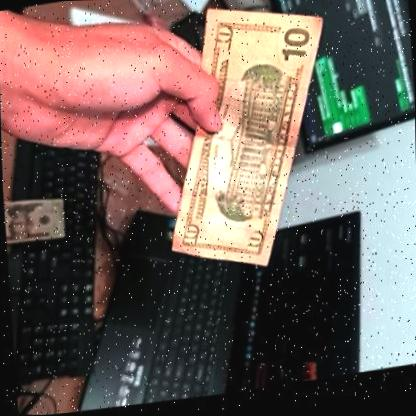ten-back: (146, 0, 341, 288)
twenty-front: (2, 186, 66, 246)
